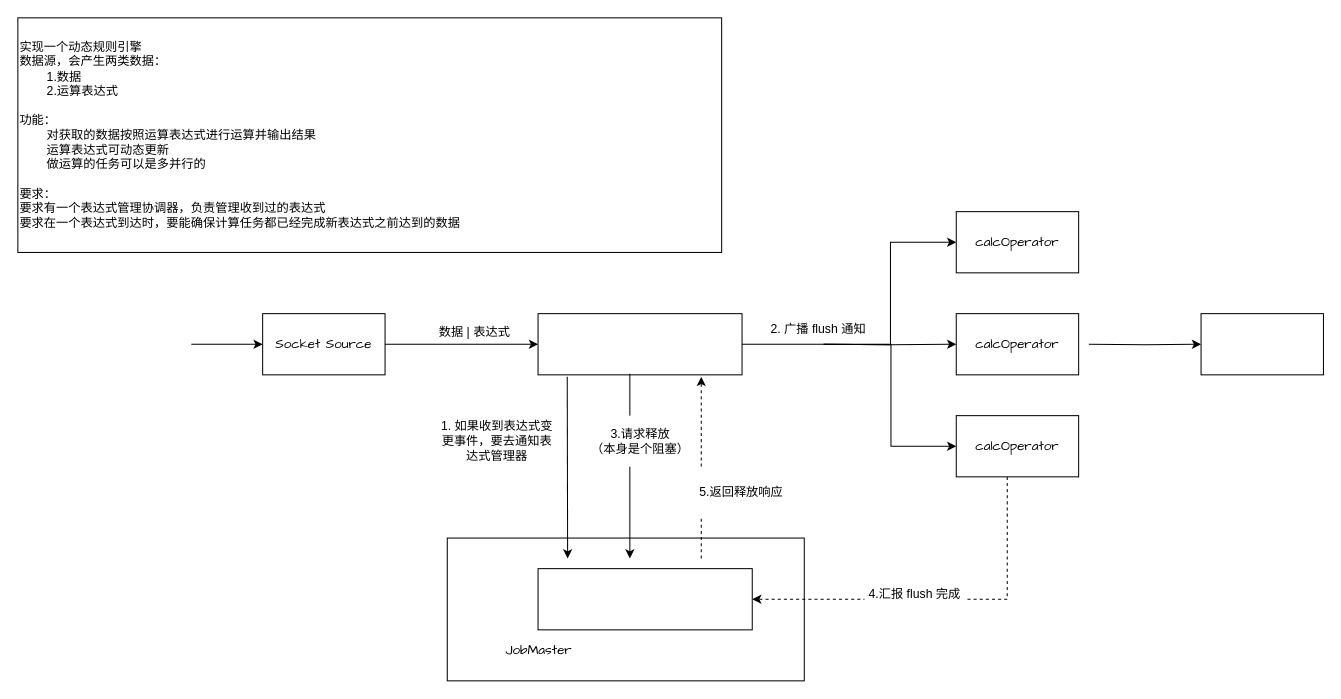
The diagram is 1341 pixels wide and 699 high, and some of its shapes have lost their labels. Here are the shapes that lost their labels. From the top down, the centre of each, then its label:
(x=639, y=344): ExpressionOperator
(x=1261, y=344): Sink
(x=644, y=599): OperatorCoordinator 统计 flush 成功的 subtask 个数
